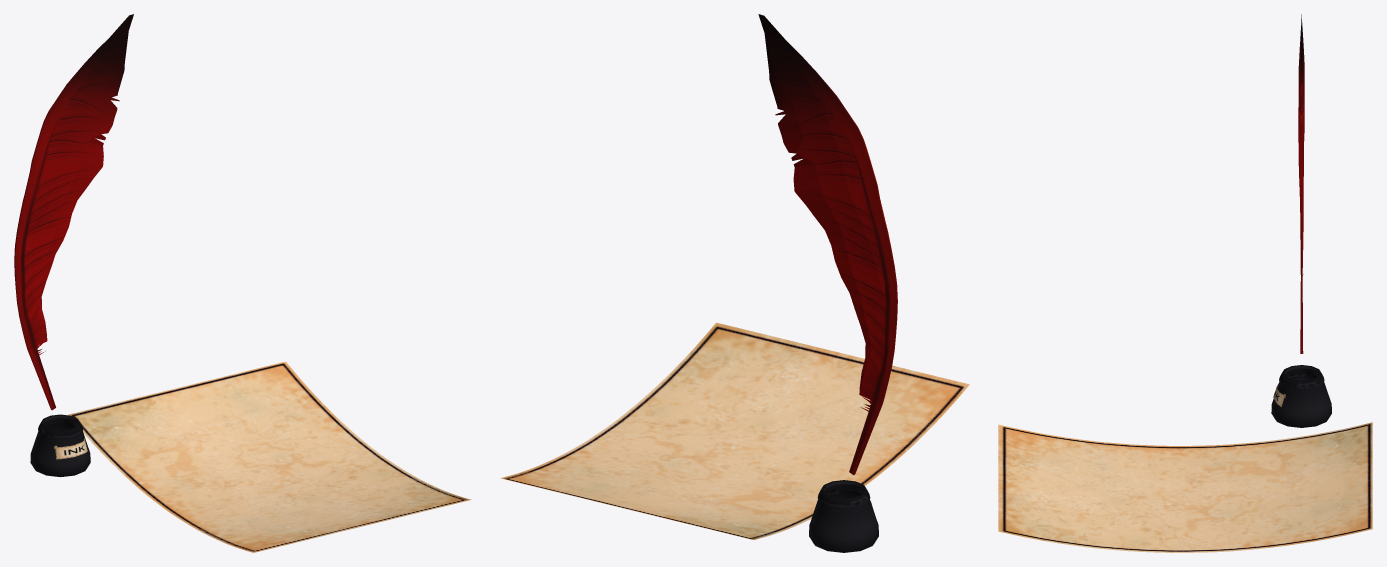
Rendered from quill_parchment__inkwell_objects.glb.
3 renders of one model, left to right at view 1: azimuth 30°, elevation 25°; view 2: azimuth 150°, elevation 25°; view 3: azimuth 270°, elevation 25°, orthographic. The views are drawn at different scales.
Parts seen in each view (by area): view 1: Object_6, Object_2, Object_4, Object_5; view 2: Object_6, Object_2, Object_4, Object_5; view 3: Object_6, Object_4, Object_2, Object_5.
Boxes of the visible parts, bbox=[...] form: Object_6: bbox=[68, 361, 471, 552]; Object_2: bbox=[14, 14, 133, 410]; Object_4: bbox=[30, 430, 90, 477]; Object_5: bbox=[38, 414, 82, 438]; Object_6: bbox=[500, 322, 969, 539]; Object_2: bbox=[758, 14, 897, 475]; Object_4: bbox=[809, 498, 878, 552]; Object_5: bbox=[817, 480, 870, 508]; Object_6: bbox=[998, 422, 1372, 552]; Object_4: bbox=[1271, 380, 1331, 427]; Object_2: bbox=[1298, 14, 1304, 353]; Object_5: bbox=[1279, 365, 1324, 389].
Bounding box in the file's own units: 1.55 × 2.14 × 1.63.
Materials: 6 (6 with a texture image).
